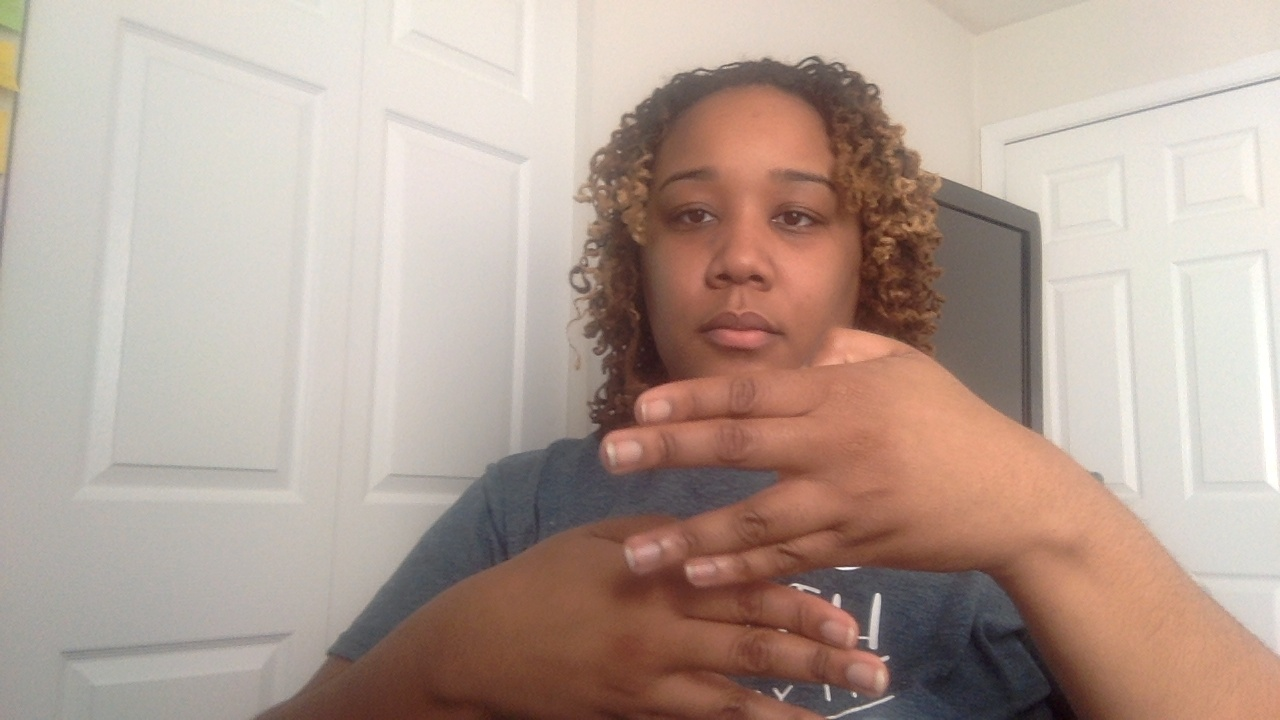world: (326, 330, 936, 720)
